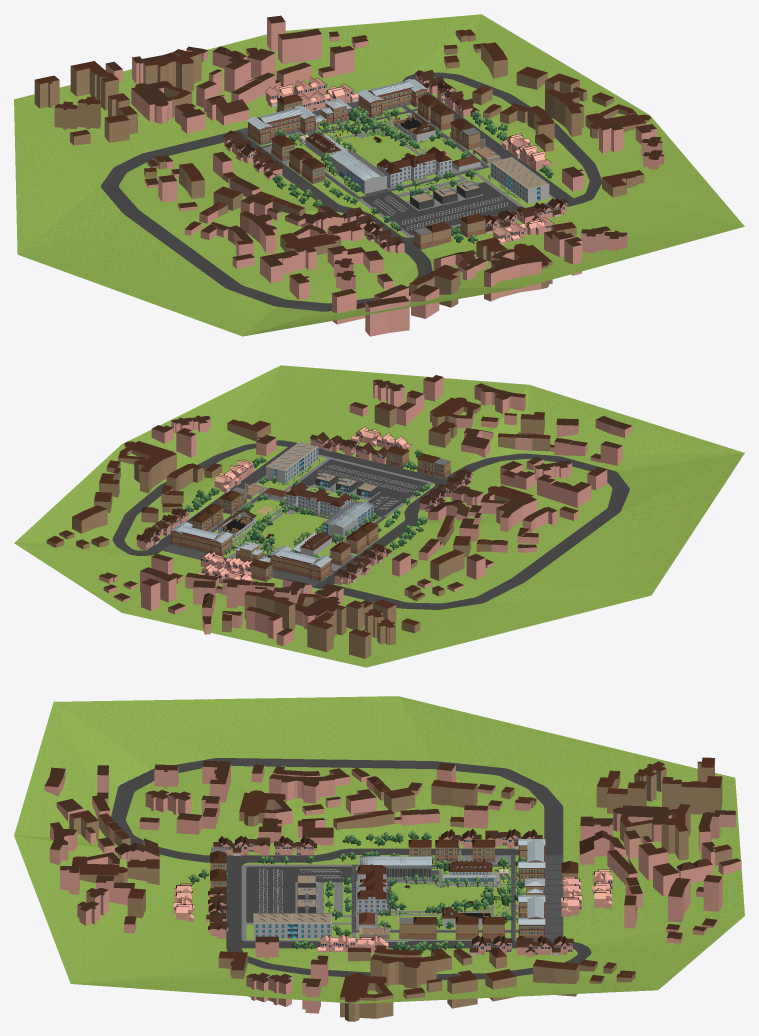
3 renders of one model, top to bottom at view 1: azimuth 30°, elevation 25°; view 2: azimuth 150°, elevation 25°; view 3: azimuth 270°, elevation 25°, orthographic. The views are drawn at different scales.
Parts seen in each view (by area): view 1: Ground, Blocks, Blocks.002, CampusBuildings.005, CityBuildings.002, CityBuildings, CityBuildings.003, CityBuildings.004, Studentenwohnheim, Main, CampusBuildings.002, Trees (+3 smaller); view 2: Ground, Blocks, Blocks.002, CampusBuildings.005, CityBuildings.002, CityBuildings, CityBuildings.004, CityBuildings.003, Main, Studentenwohnheim, CampusBuildings.002, BeegBuilding (+2 smaller); view 3: Ground, Blocks, Blocks.002, CampusBuildings.005, CityBuildings.003, CityBuildings.004, Studentenwohnheim, CityBuildings.002, CampusBuildings.002, CityBuildings, Trees, Main (+3 smaller).
Boxes of the visible parts, bbox=[...] form: Ground: bbox=[14, 14, 744, 336]; Blocks: bbox=[105, 15, 664, 336]; Blocks.002: bbox=[34, 29, 651, 307]; CampusBuildings.005: bbox=[238, 79, 427, 195]; CityBuildings.002: bbox=[483, 133, 567, 233]; CityBuildings: bbox=[223, 83, 358, 179]; CityBuildings.003: bbox=[265, 70, 479, 117]; CityBuildings.004: bbox=[341, 207, 554, 253]; Studentenwohnheim: bbox=[490, 157, 549, 203]; Main: bbox=[376, 146, 451, 186]; CampusBuildings.002: bbox=[417, 94, 480, 150]; Trees: bbox=[275, 106, 400, 163]; Ground: bbox=[14, 365, 744, 667]; Blocks: bbox=[99, 375, 632, 646]; Blocks.002: bbox=[46, 397, 550, 658]; CampusBuildings.005: bbox=[162, 522, 378, 586]; CityBuildings.002: bbox=[214, 432, 386, 492]; CityBuildings: bbox=[200, 543, 391, 584]; CityBuildings.004: bbox=[351, 426, 472, 511]; CityBuildings.003: bbox=[136, 508, 257, 583]; Main: bbox=[285, 482, 352, 515]; Studentenwohnheim: bbox=[266, 442, 318, 483]; CampusBuildings.002: bbox=[190, 487, 247, 531]; BeegBuilding: bbox=[323, 500, 374, 539]; Ground: bbox=[14, 696, 744, 1003]; Blocks: bbox=[44, 760, 741, 1013]; Blocks.002: bbox=[69, 757, 732, 1021]; CampusBuildings.005: bbox=[356, 839, 578, 941]; CityBuildings.003: bbox=[469, 869, 613, 956]; CityBuildings.004: bbox=[173, 836, 316, 921]; Studentenwohnheim: bbox=[253, 913, 331, 938]; CityBuildings.002: bbox=[206, 886, 388, 952]; CampusBuildings.002: bbox=[399, 917, 505, 939]; CityBuildings: bbox=[438, 829, 582, 916]; Trees: bbox=[403, 856, 525, 923]; Main: bbox=[357, 864, 386, 912].
Bounding box in the file's own units: 669 × 51.65 × 661.
Materials: 16 (13 with a texture image).
